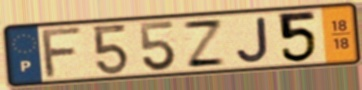5: (275, 9, 321, 64), (137, 19, 179, 73), (90, 24, 130, 77)
F: (40, 25, 86, 81)
J: (234, 15, 272, 65)
Z: (180, 19, 229, 69)
